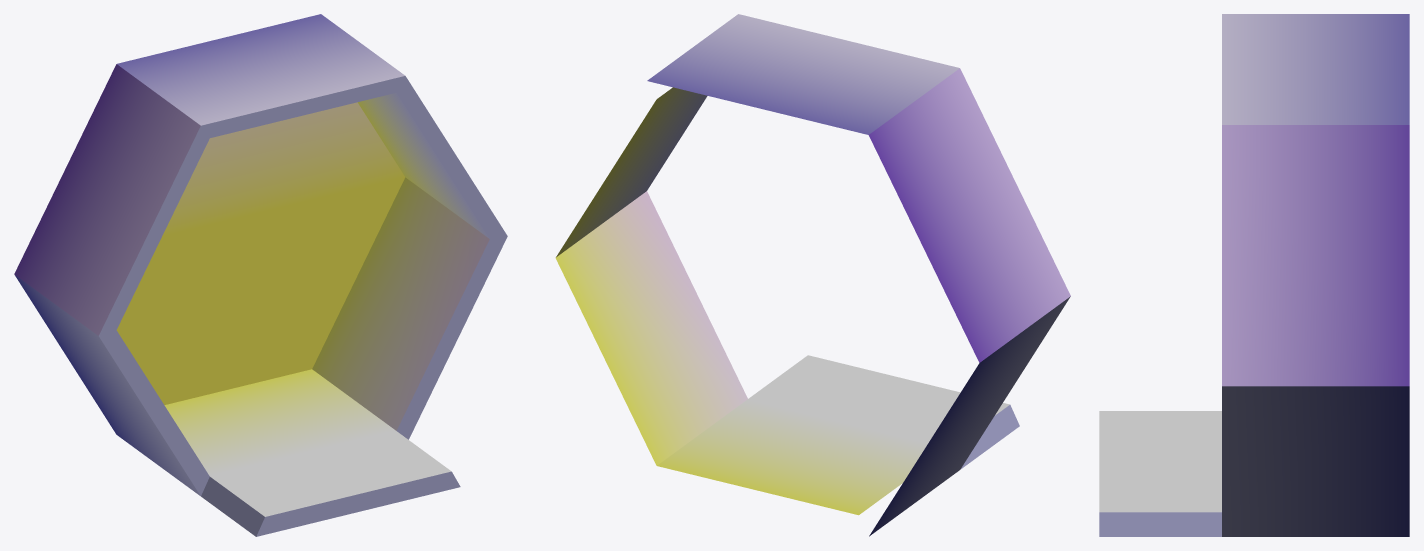
The model's file is hexagon2.glb.
3 renders of one model, left to right at view 1: azimuth 30°, elevation 25°; view 2: azimuth 150°, elevation 25°; view 3: azimuth 270°, elevation 25°, orthographic. The views are drawn at different scales.
Parts seen in each view (by area): view 1: hexagon2; view 2: hexagon2; view 3: hexagon2.
Boxes of the visible parts, bbox=[...] form: hexagon2: bbox=[14, 14, 507, 536]; hexagon2: bbox=[555, 14, 1070, 536]; hexagon2: bbox=[1099, 14, 1409, 536].
Bounding box in the file's own units: 3.51 × 3.04 × 2.08.
